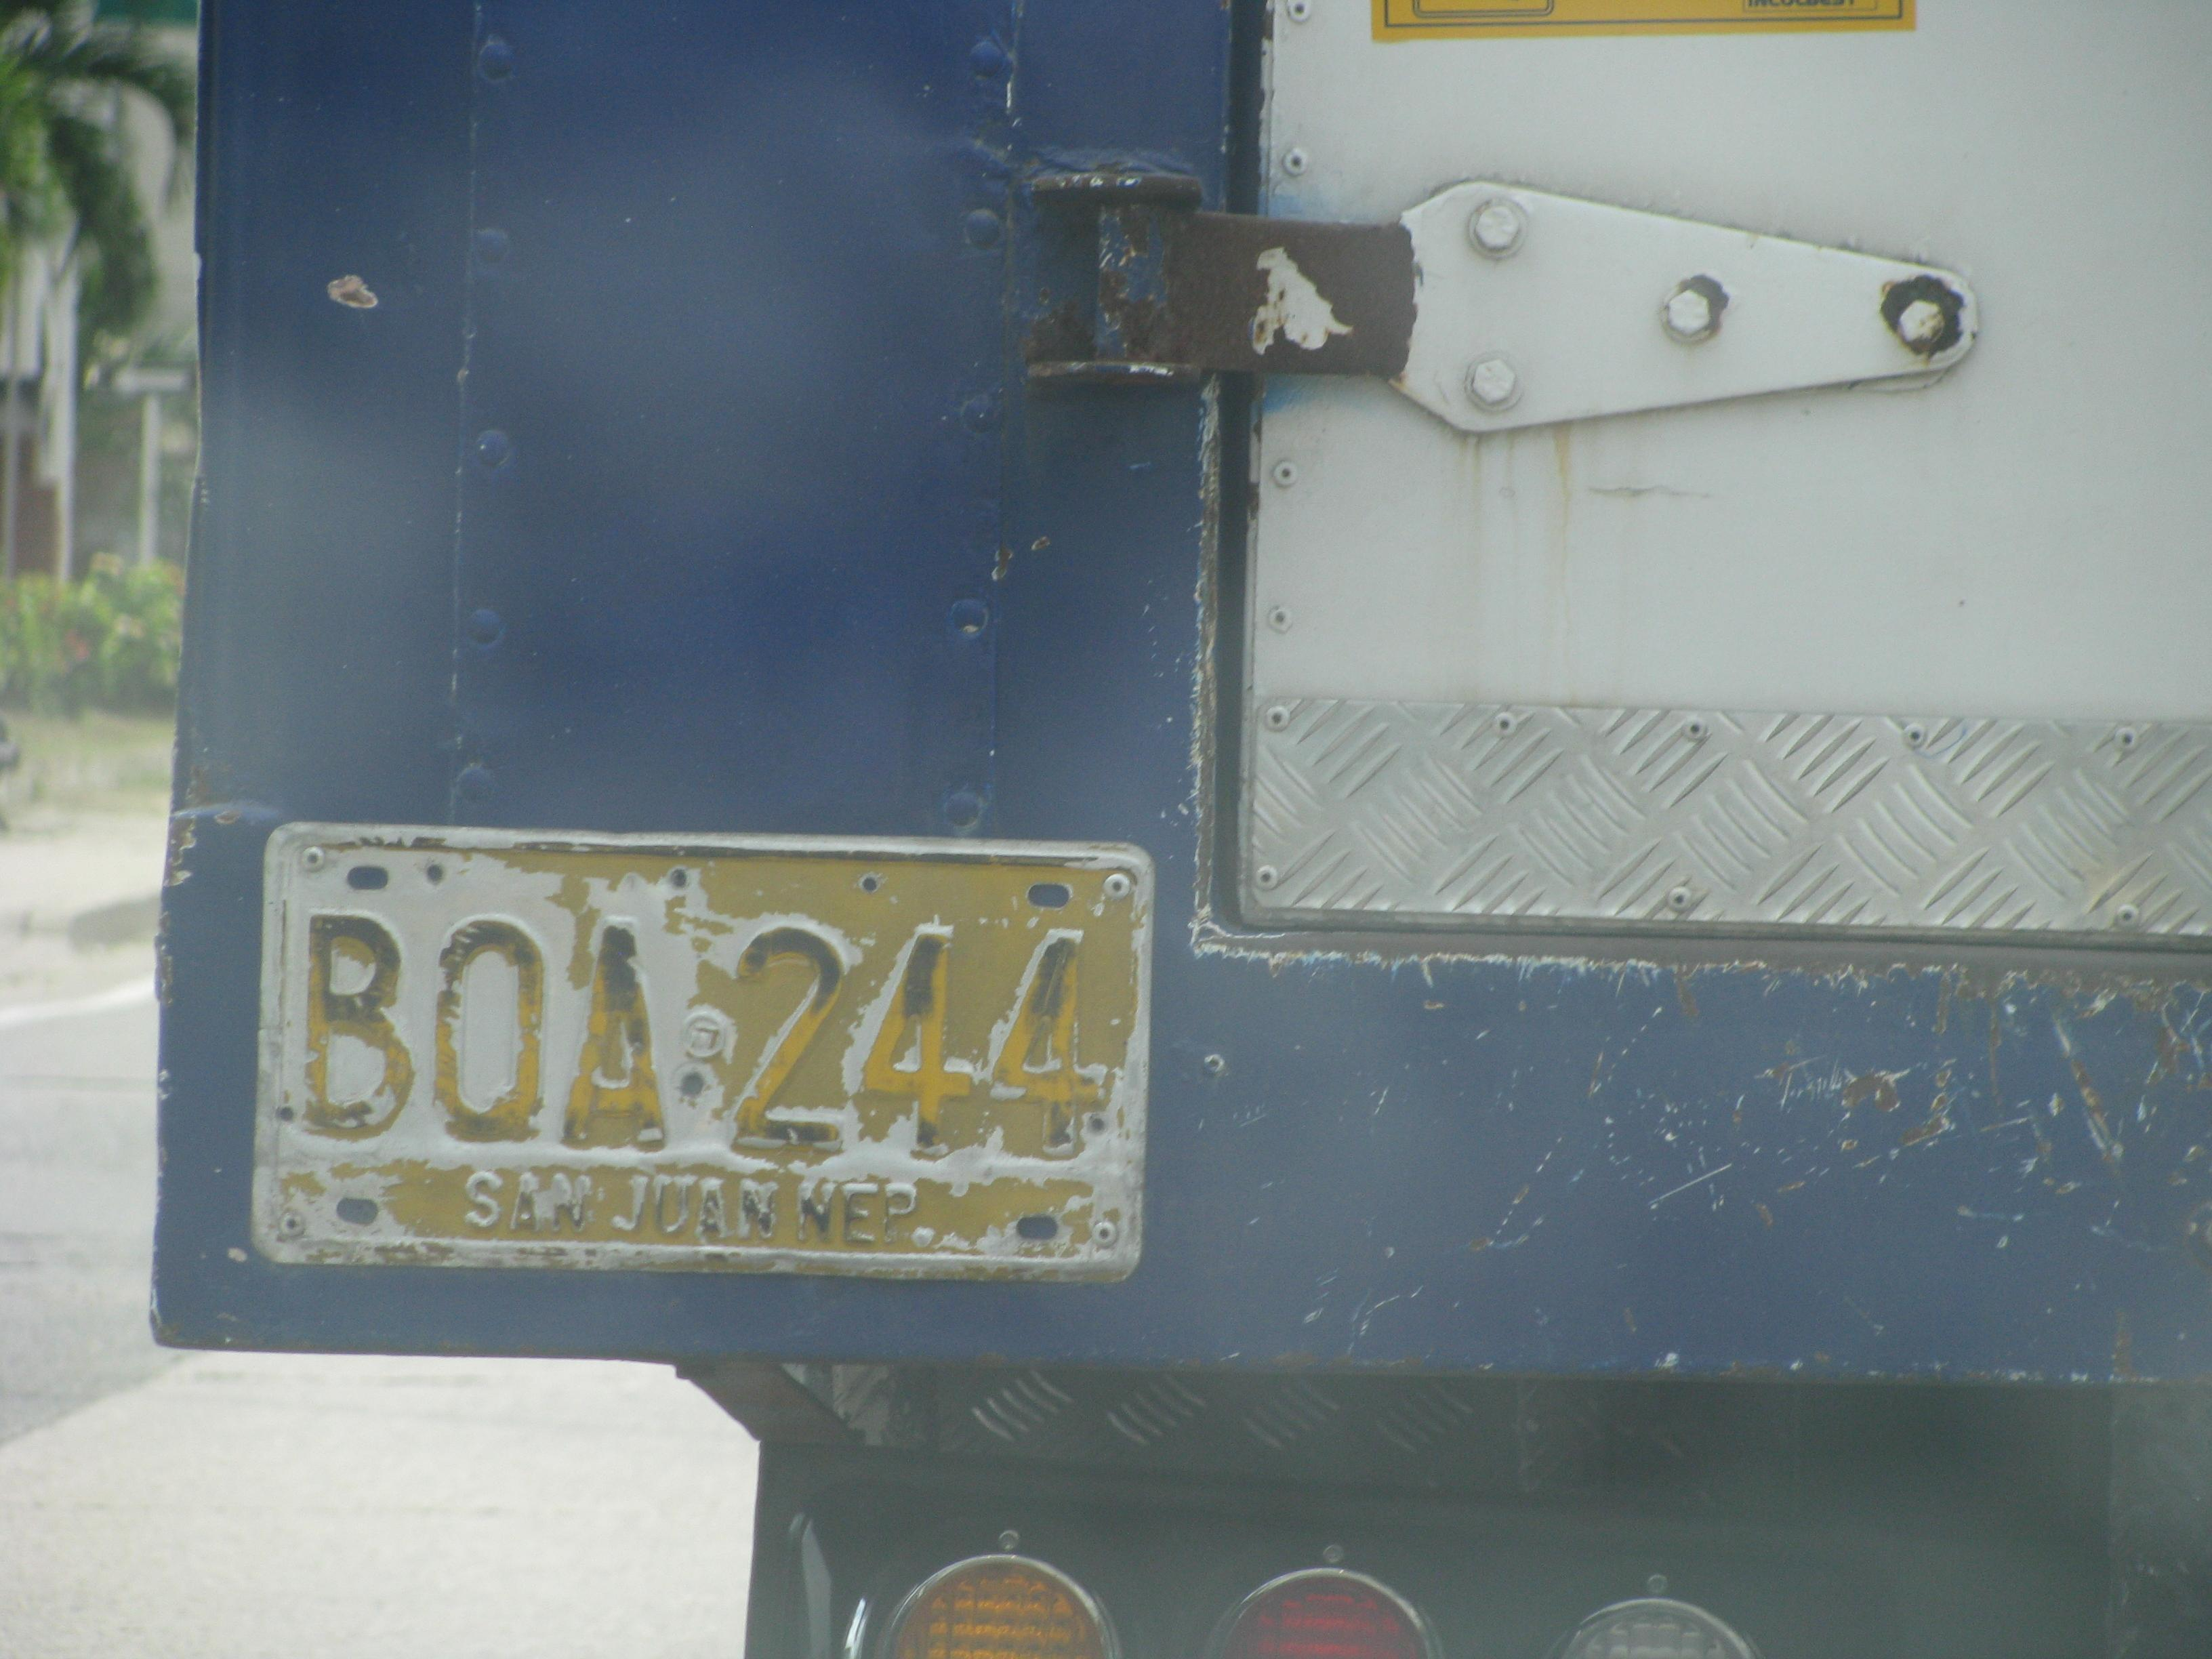placas: (248, 802, 1160, 1289)
